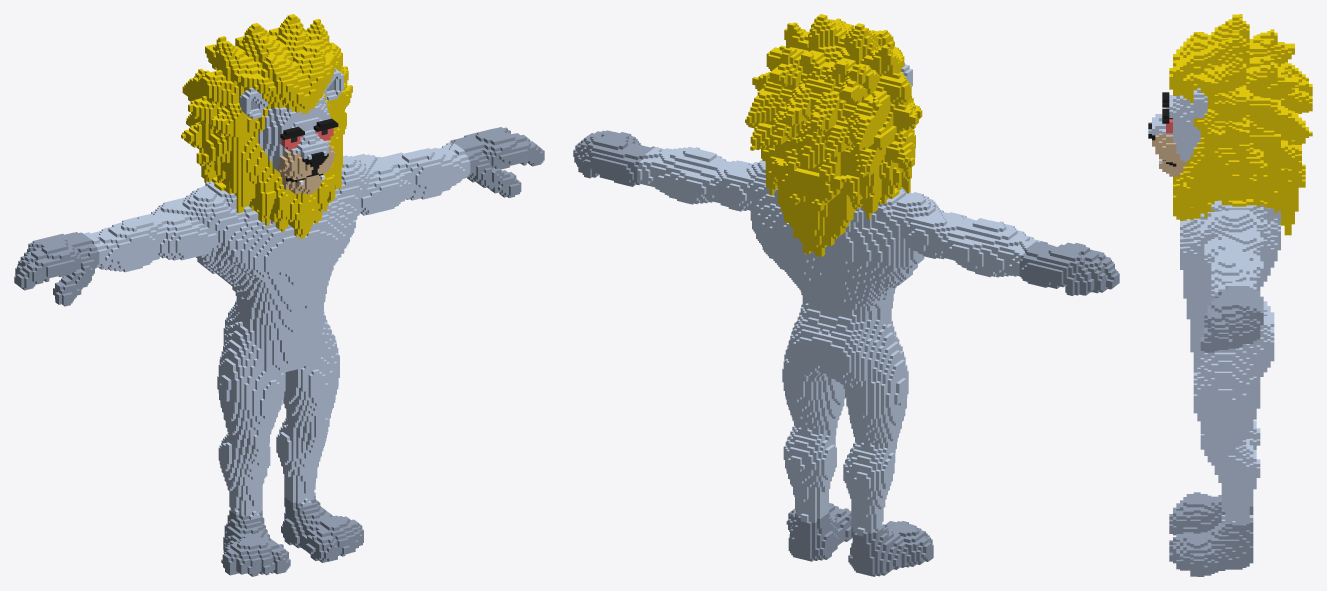
The model's file is 1-DhQMuB8x.fbx.
The picture shows the model from 3 angles, left to right: view 1: azimuth 30°, elevation 25°; view 2: azimuth 150°, elevation 25°; view 3: azimuth 270°, elevation 25°; orthographic projection. The views are drawn at different scales.
Parts seen in each view (by area): view 1: standard; view 2: standard; view 3: standard.
Part boxes in pixels (box(x1,y1,x2,y2)): standard: box(14, 14, 544, 576); standard: box(573, 14, 1119, 576); standard: box(1148, 14, 1312, 576).
Size of the model in its own units: 17.2 by 16.5 by 4.7.
Materials: 4 (4 with a texture image).
